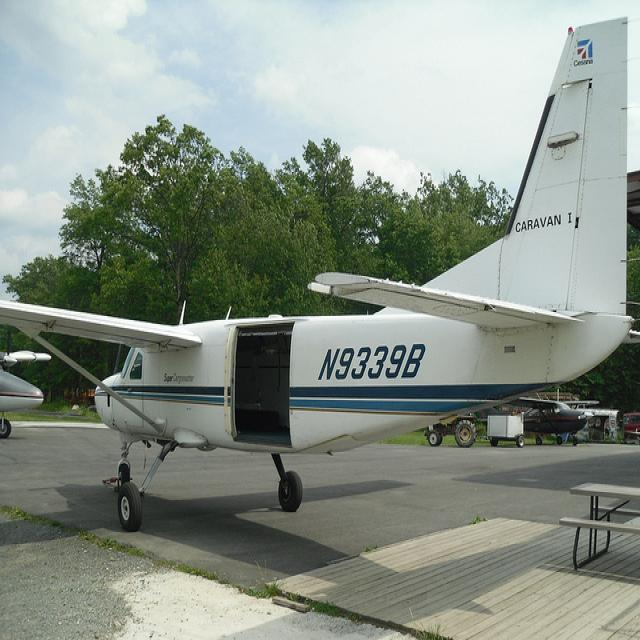Vehicle: (622, 413, 640, 446)
